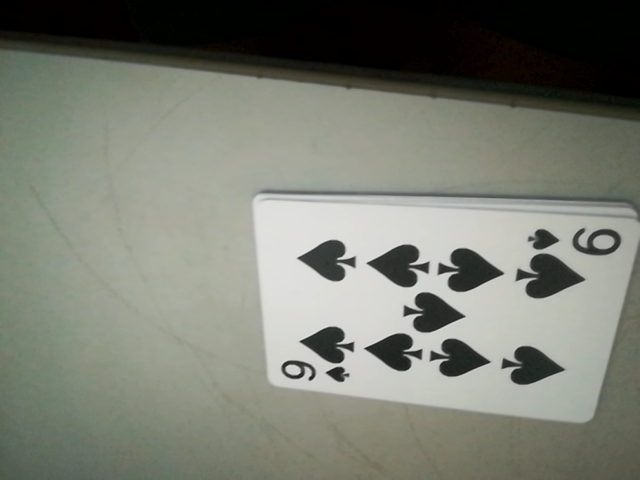ht 9: (270, 354, 358, 392)
